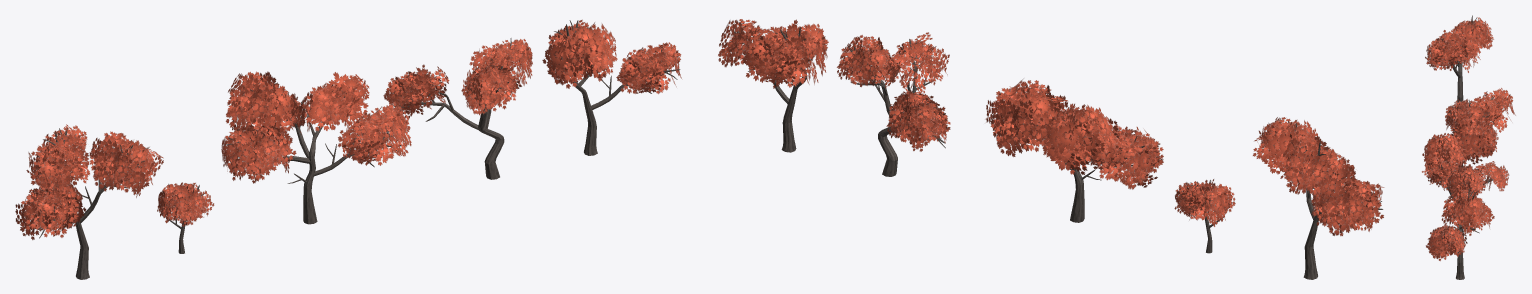
The model's file is maple-pack.glb.
3 renders of one model, left to right at view 1: azimuth 30°, elevation 25°; view 2: azimuth 150°, elevation 25°; view 3: azimuth 270°, elevation 25°, orthographic. The views are drawn at different scales.
Visible parts, largest first — view 1: MapleTree_3, MapleTree_5, MapleTree_2, MapleTree_1, MapleTree_4; view 2: MapleTree_3, MapleTree_5, MapleTree_2, MapleTree_1, MapleTree_4; view 3: MapleTree_3, MapleTree_1, MapleTree_5, MapleTree_2, MapleTree_4.
Part boxes in pixels (x1,y1,x2,y2): MapleTree_3: [221, 71, 411, 224]; MapleTree_5: [15, 124, 163, 279]; MapleTree_2: [383, 38, 532, 179]; MapleTree_1: [542, 19, 681, 155]; MapleTree_4: [157, 182, 214, 253]; MapleTree_3: [985, 79, 1163, 222]; MapleTree_5: [1253, 117, 1384, 279]; MapleTree_2: [837, 32, 950, 176]; MapleTree_1: [718, 19, 828, 152]; MapleTree_4: [1174, 179, 1235, 253]; MapleTree_3: [1422, 87, 1515, 175]; MapleTree_1: [1426, 188, 1494, 279]; MapleTree_5: [1425, 15, 1494, 105]; MapleTree_2: [1421, 157, 1509, 246]; MapleTree_4: [1445, 99, 1469, 131].
Bounding box in the file's own units: 34.21 × 7.29 × 6.68.
2 materials, 2 textured.
